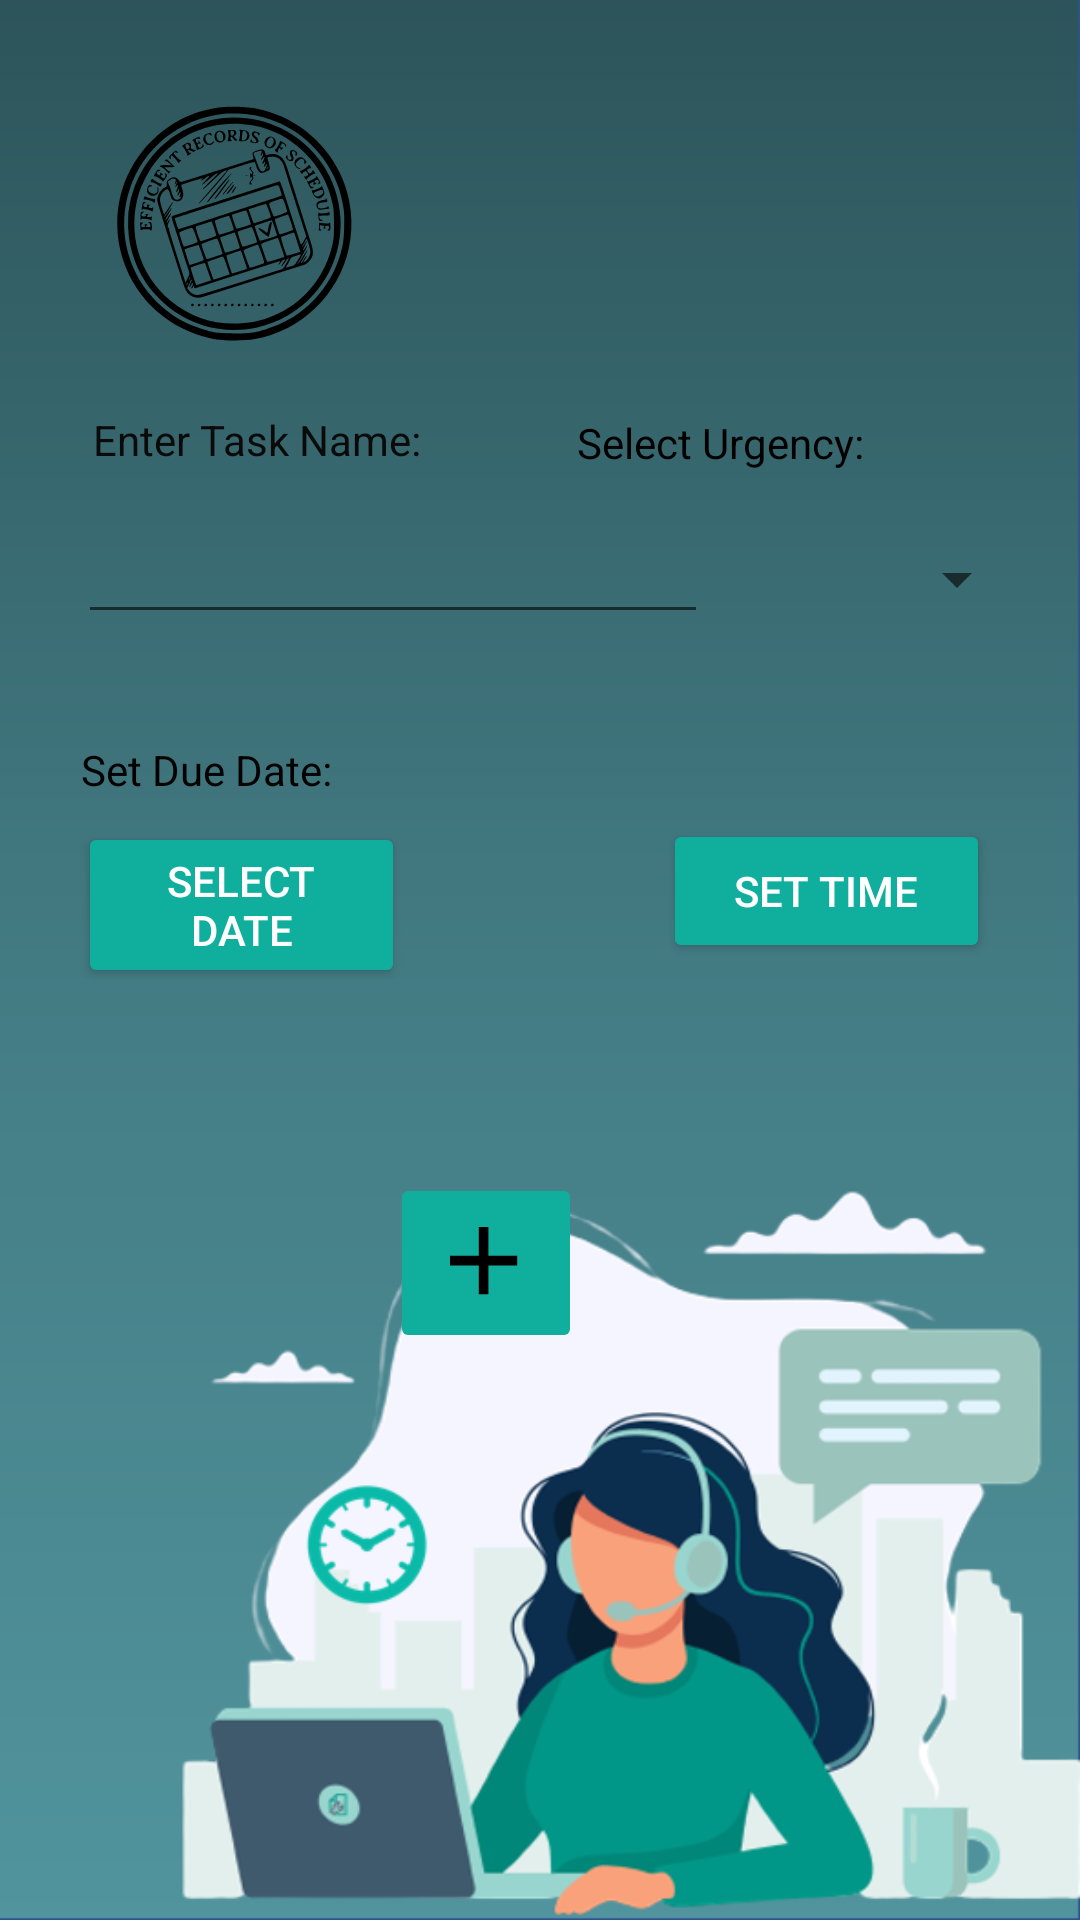

Screen size 1080px×1920px. Icon name, then its center in pixels as [x,y]:
add: [486,1263]
